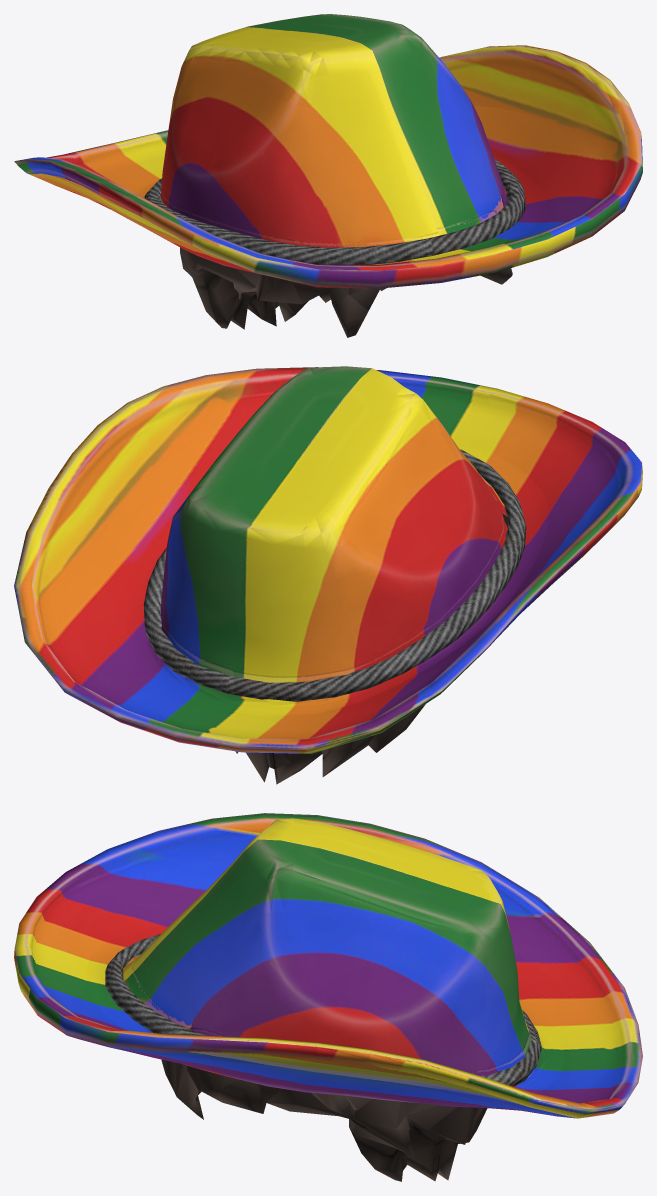
3 renders of one model, top to bottom at view 1: azimuth 30°, elevation 25°; view 2: azimuth 150°, elevation 25°; view 3: azimuth 270°, elevation 25°, orthographic. The views are drawn at different scales.
Visible parts, largest first — view 1: Wolf3D_Headwear.027; view 2: Wolf3D_Headwear.027; view 3: Wolf3D_Headwear.027.
Part boxes in pixels (<box>): Wolf3D_Headwear.027: <box>14,14,642,337</box>; Wolf3D_Headwear.027: <box>14,366,642,784</box>; Wolf3D_Headwear.027: <box>14,813,642,1181</box>.
Bounding box in the file's own units: 0.334 × 0.2262 × 0.3825.
Materials: 1 (1 with a texture image).
